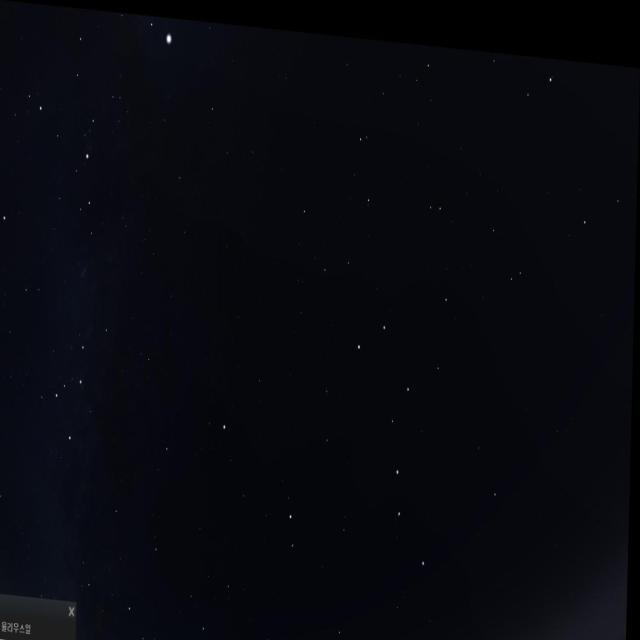cassiopeia: (39, 294, 123, 454)
ursa_major: (351, 297, 440, 568)
